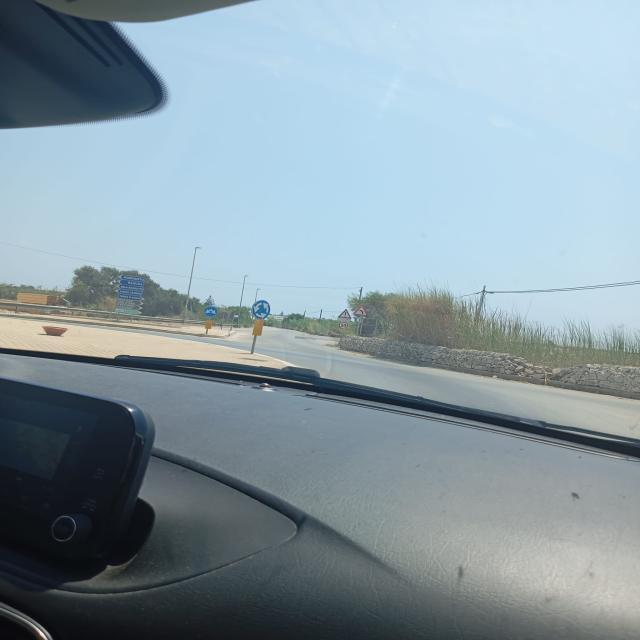warn_left_curve: (353, 305, 369, 318)
